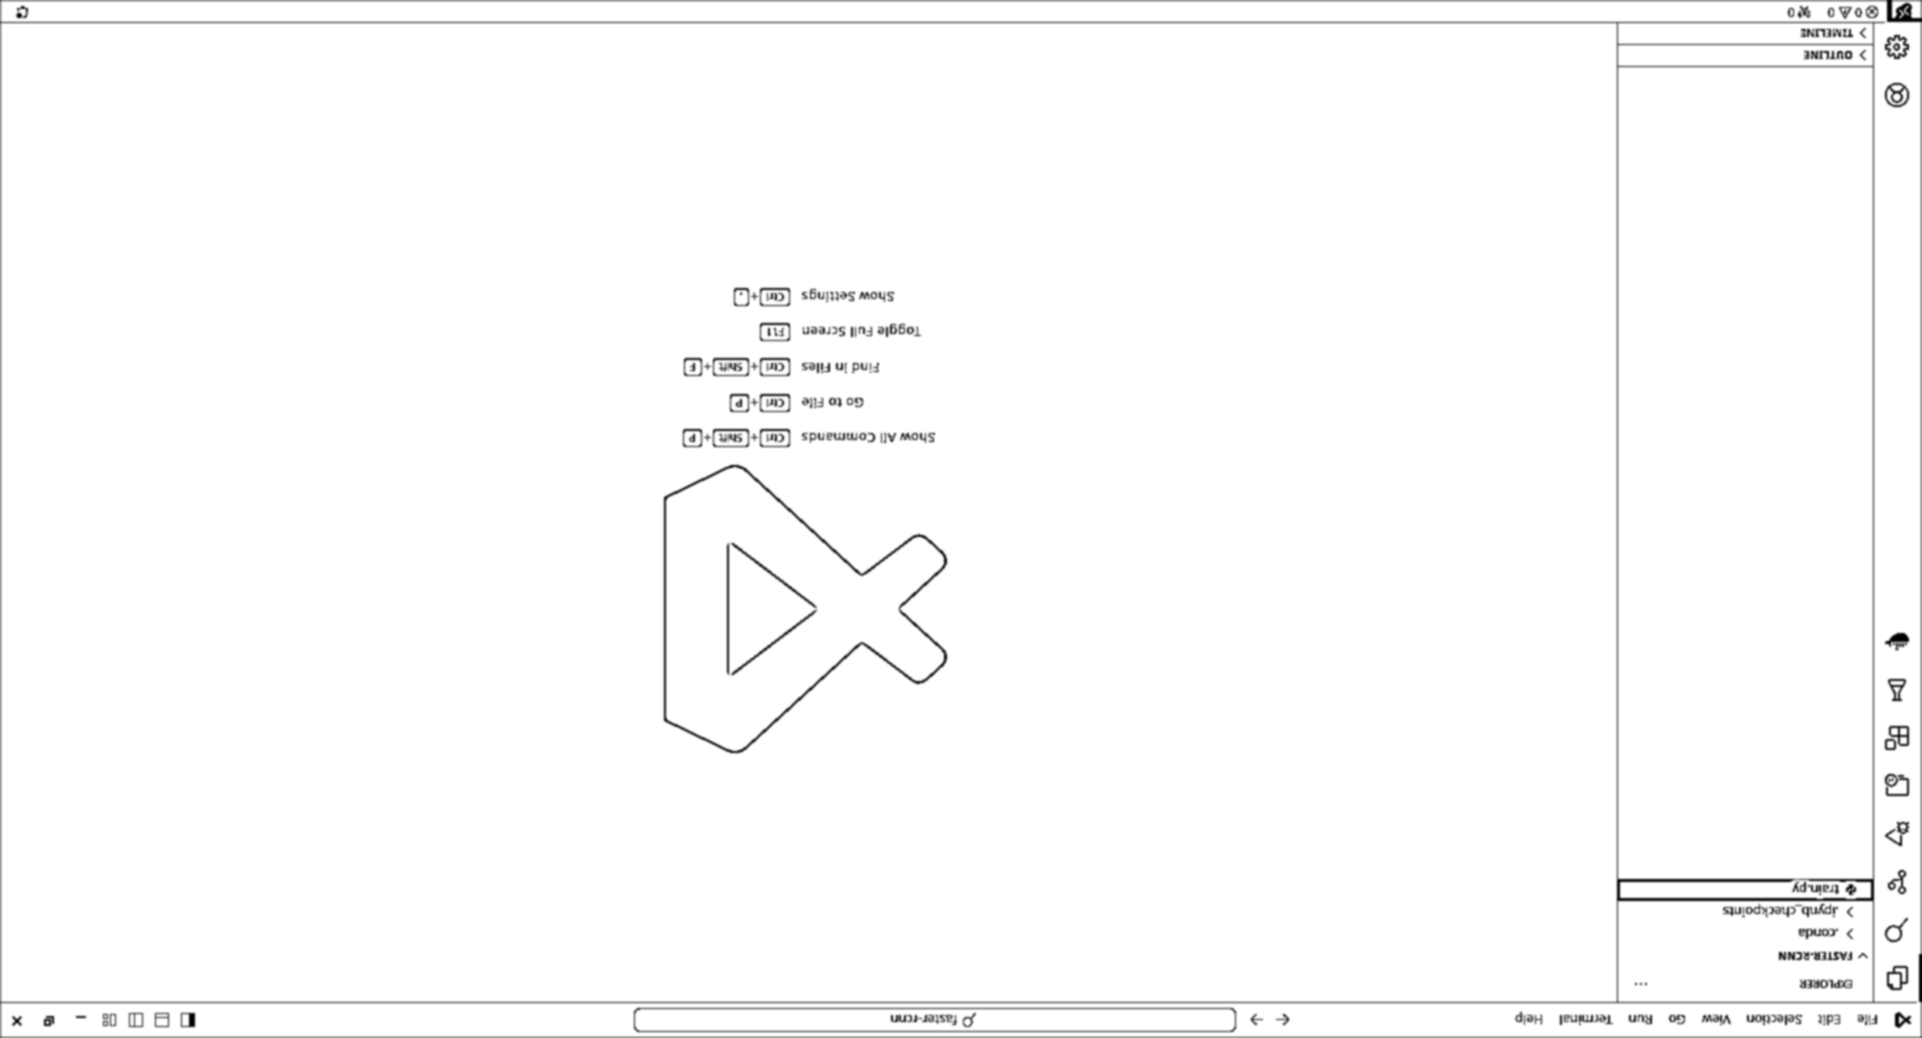Accounts: (1884, 83, 1916, 112)
Activity Bar: (1879, 26, 1922, 1003)
Close: (9, 1010, 28, 1032)
Editor: (8, 26, 1619, 1001)
Explorer: (1882, 960, 1916, 997)
Extensions: (1882, 724, 1914, 754)
Manage: (1884, 29, 1918, 64)
Maximize: (40, 1012, 60, 1032)
Minimize: (75, 1015, 93, 1028)
Primary Side Bar: (1622, 26, 1876, 1001)
Run and Debug: (1882, 819, 1917, 859)
Search: (1882, 917, 1912, 949)
Source Control: (1882, 871, 1916, 908)
Status Bar: (6, 3, 1922, 23)
Testing: (1882, 674, 1916, 706)
Top Bar: (4, 1005, 1919, 1038), (633, 1005, 1245, 1038)
